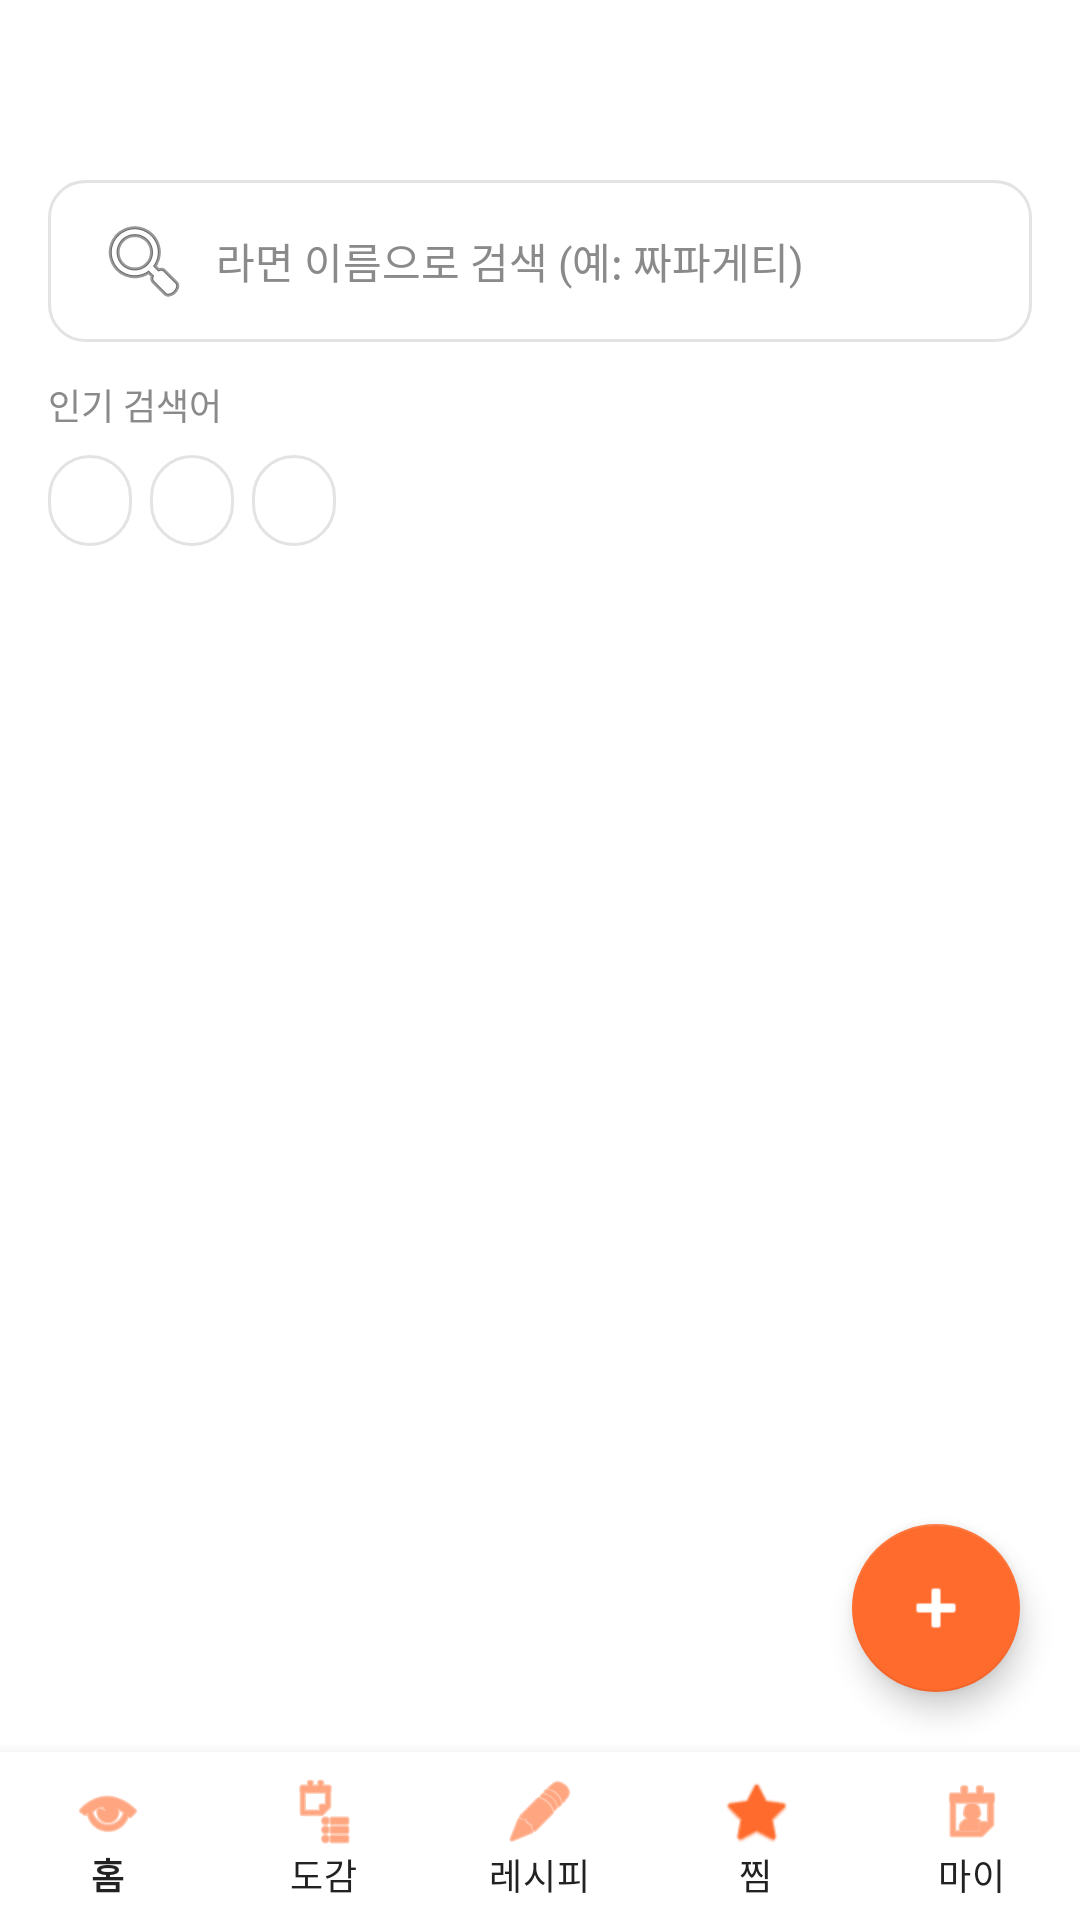

Icons on this 1080 × 1920 Android screen, each with the point to tap as (x,y):
add: (936,1608)
